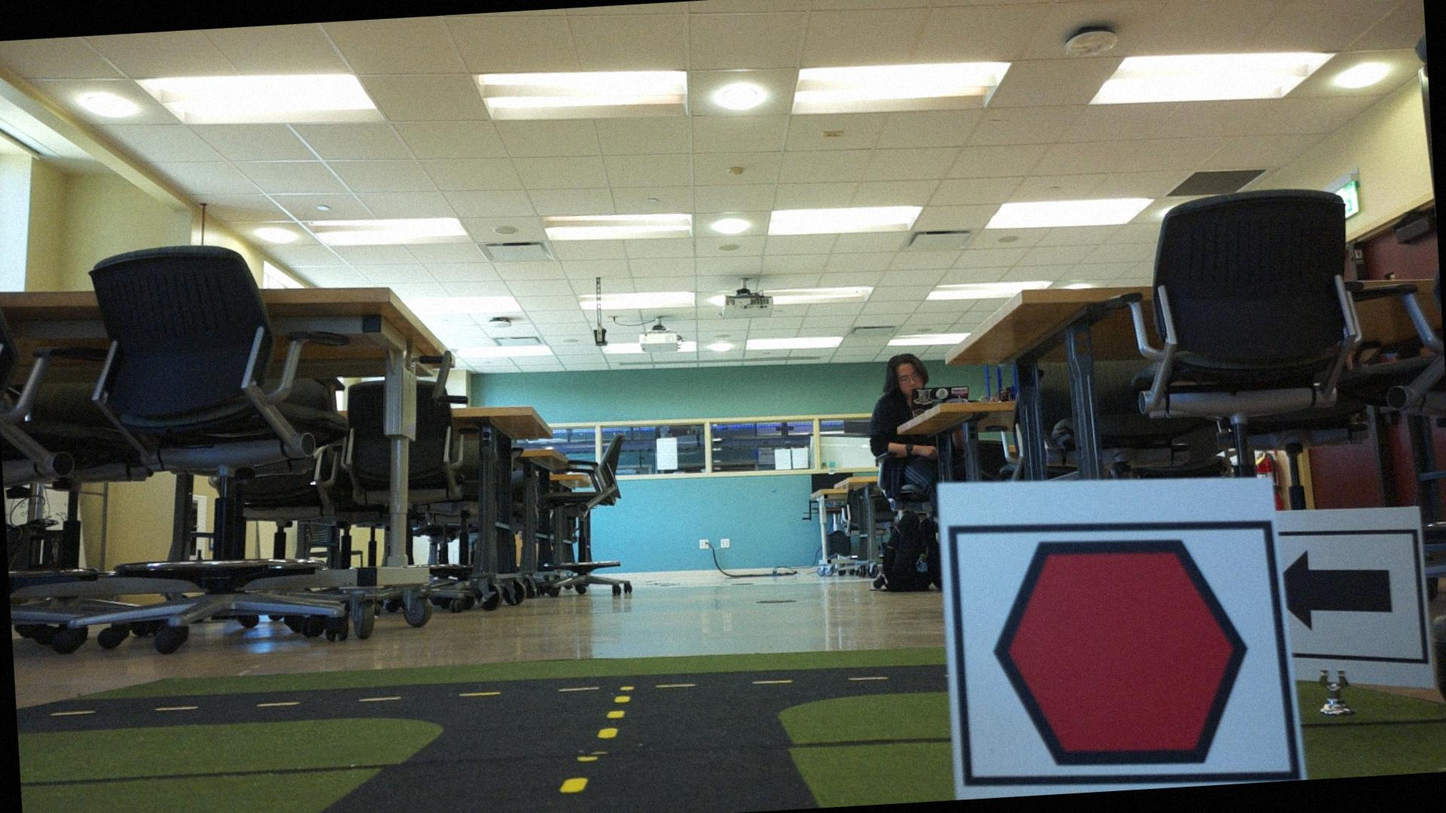stop: (969, 519, 1269, 787)
yellowline: (541, 753, 595, 812), (589, 691, 631, 745)
